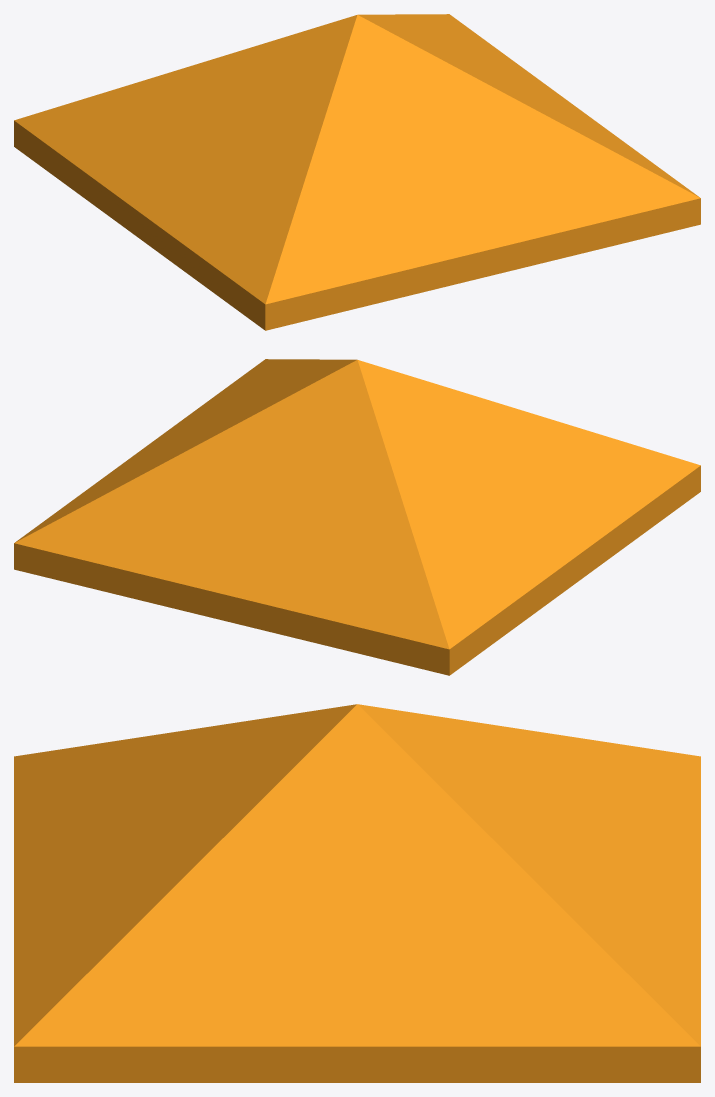
File: SM_Buildings_RoofAngledPoint_2x2_01.fbx
3 renders of one model, top to bottom at view 1: azimuth 30°, elevation 25°; view 2: azimuth 150°, elevation 25°; view 3: azimuth 270°, elevation 25°, orthographic. The views are drawn at different scales.
Visible parts, largest first — view 1: SM_Buildings_RoofAngledPoint_2x2_01; view 2: SM_Buildings_RoofAngledPoint_2x2_01; view 3: SM_Buildings_RoofAngledPoint_2x2_01.
Part boxes in pixels (x1,y1,x2,y2): SM_Buildings_RoofAngledPoint_2x2_01: (14, 14, 700, 330); SM_Buildings_RoofAngledPoint_2x2_01: (14, 359, 700, 675); SM_Buildings_RoofAngledPoint_2x2_01: (14, 704, 700, 1082).
Bounding box in the file's own units: 200 × 75.01 × 200.
